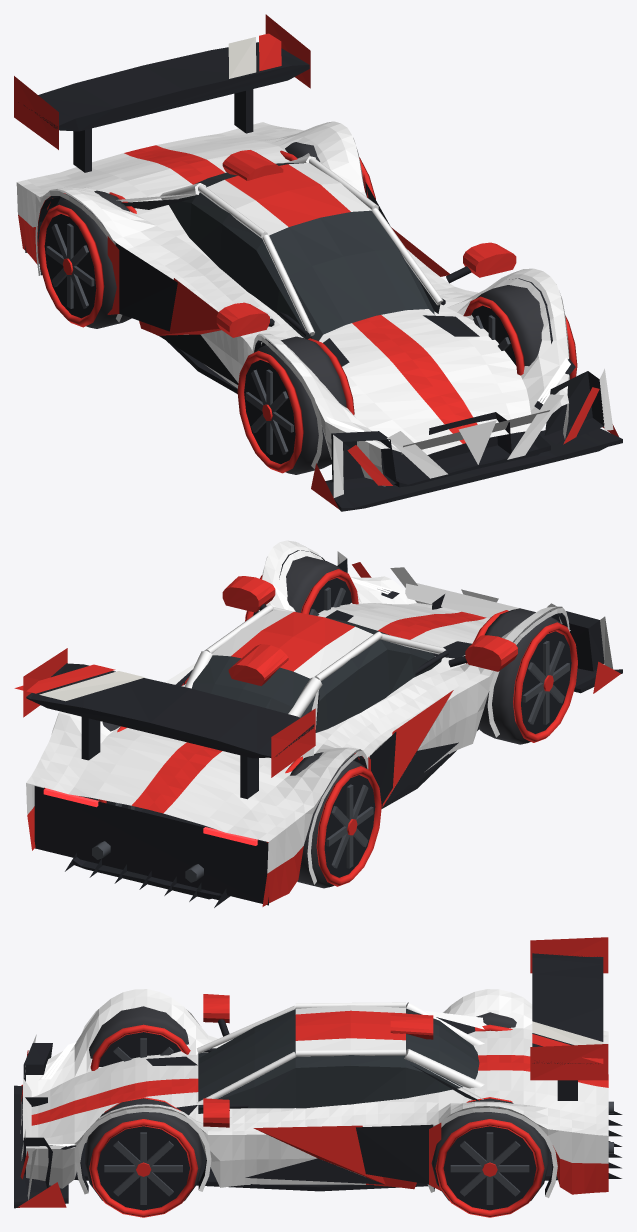
File: hyper.glb
The picture shows the model from 3 angles, top to bottom: view 1: azimuth 30°, elevation 25°; view 2: azimuth 150°, elevation 25°; view 3: azimuth 270°, elevation 25°; orthographic projection. The views are drawn at different scales.
Parts seen in each view (by area): view 1: white:2, black:2, red:2, glass:2, rubber:0 (×3), black:0 (×4), red:0 (×3), white:0, metal:0 (×2), whiteAccent:2; view 2: white:2, black:2, red:2, glass:2, black:0 (×4), rubber:0 (×3), red:0 (×3), metal:0 (×3), white:0, whiteAccent:2, tail:0; view 3: white:2, red:2, black:2, glass:2, black:0 (×4), red:0 (×3), rubber:0 (×4), metal:0 (×2), white:0, whiteAccent:2.
Part boxes in pixels (x1,y1,x2,y2): white:2: [16, 121, 613, 497]; black:2: [18, 42, 622, 511]; red:2: [14, 14, 618, 509]; glass:2: [169, 163, 440, 341]; rubber:0 (×3): [54, 190, 543, 474]; black:0 (×4): [44, 89, 516, 464]; red:0 (×3): [38, 192, 577, 473]; white:0: [160, 156, 443, 336]; metal:0 (×2): [46, 223, 293, 454]; whiteAccent:2: [228, 37, 256, 78]; white:2: [26, 540, 612, 884]; black:2: [26, 550, 622, 907]; red:2: [14, 562, 620, 906]; glass:2: [191, 617, 441, 732]; black:0 (×4): [81, 578, 571, 877]; rubber:0 (×3): [253, 556, 561, 888]; red:0 (×3): [245, 569, 577, 886]; metal:0 (×3): [92, 641, 569, 882]; white:0: [184, 605, 445, 717]; whiteAccent:2: [39, 671, 144, 701]; tail:0: [43, 788, 257, 845]; white:2: [20, 989, 608, 1200]; red:2: [17, 937, 608, 1207]; black:2: [14, 953, 622, 1208]; glass:2: [198, 1008, 479, 1113]; black:0 (×4): [97, 1019, 577, 1210]; red:0 (×3): [89, 1024, 544, 1217]; rubber:0 (×4): [85, 1006, 548, 1201]; metal:0 (×2): [104, 1132, 529, 1204]; white:0: [197, 1002, 484, 1105]; whiteAccent:2: [532, 1021, 603, 1045].
Bounding box in the file's own units: 2.84 × 1.88 × 6.01.
